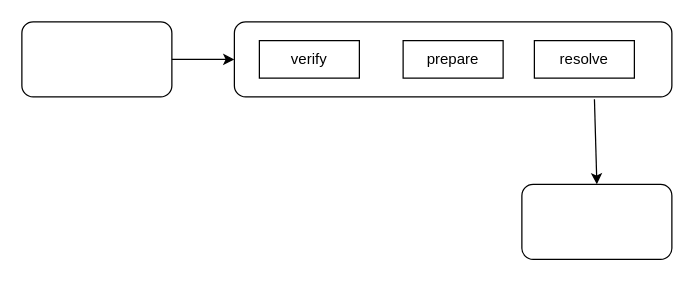
Some shapes in this 694 by 281 pixel diagram are drawn without their labels. The shapes that lost their labels are listed below. From the top down, each one's centre as x and y in pixels, then its label:
At (96,59): "loading".
At (596,221): "initialization".
